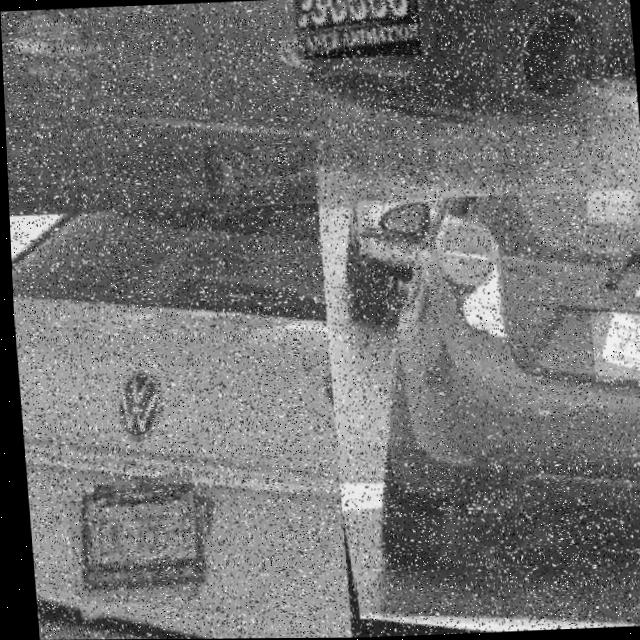LicensePlate: (68, 491, 193, 596), (295, 0, 420, 59), (202, 142, 317, 205), (591, 312, 640, 379)
